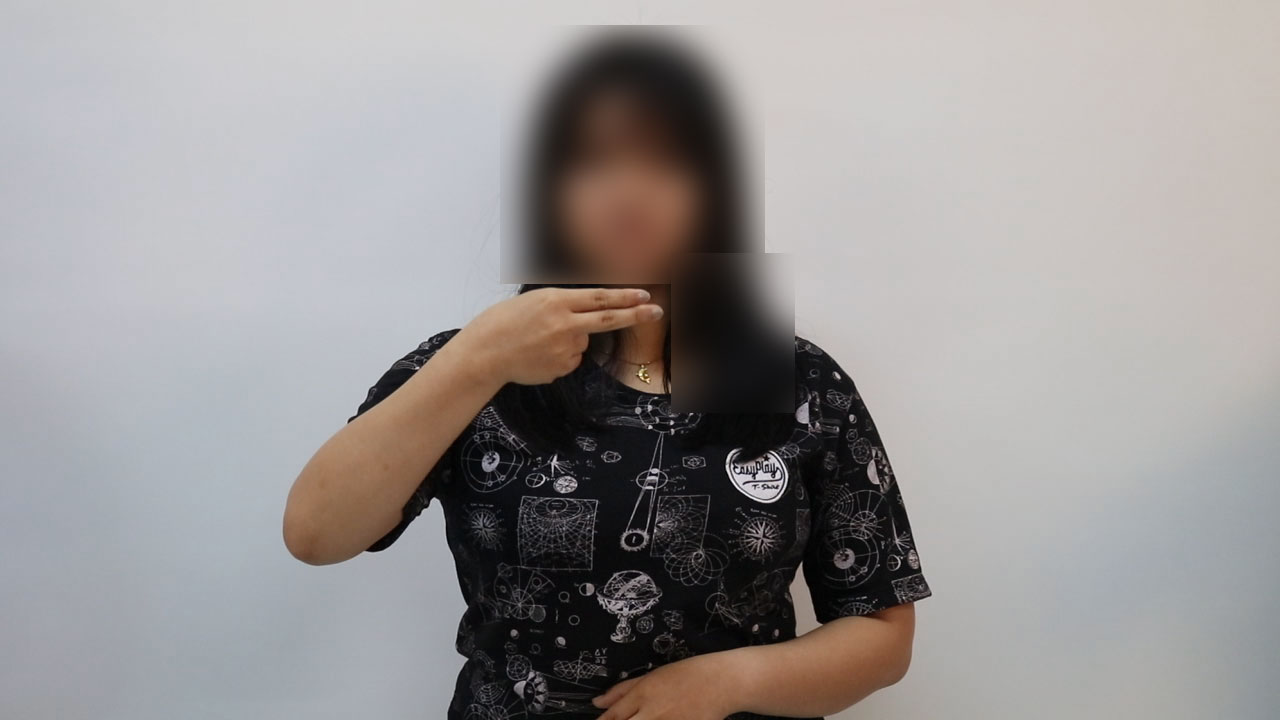hor: (464, 274, 678, 392)
